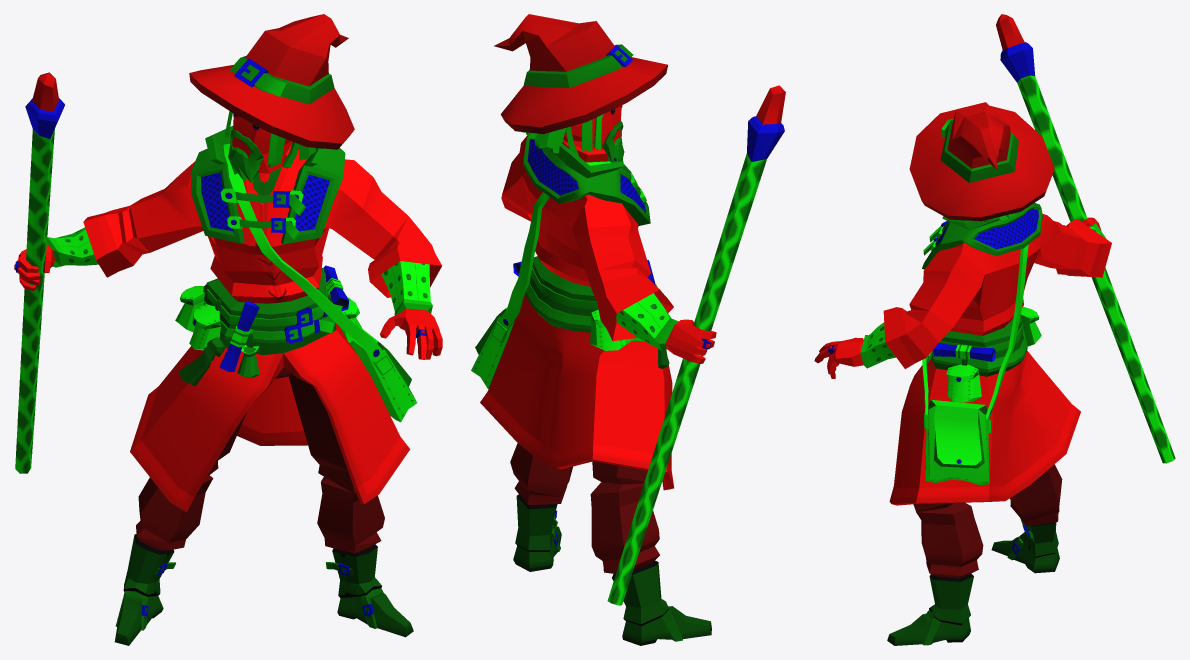
The model's file is M_Mage_prePosed2.fbx.
The picture shows the model from 3 angles, left to right: view 1: azimuth 30°, elevation 25°; view 2: azimuth 150°, elevation 25°; view 3: azimuth 270°, elevation 25°; orthographic projection. The views are drawn at different scales.
Parts seen in each view (by area): view 1: M_Mage_prePosed; view 2: M_Mage_prePosed; view 3: M_Mage_prePosed.
Part boxes in pixels (x1,y1,x2,y2): M_Mage_prePosed: (14, 14, 442, 645); M_Mage_prePosed: (471, 14, 785, 645); M_Mage_prePosed: (814, 14, 1175, 645).
Size of the model in its own units: 131 by 215 by 140.
